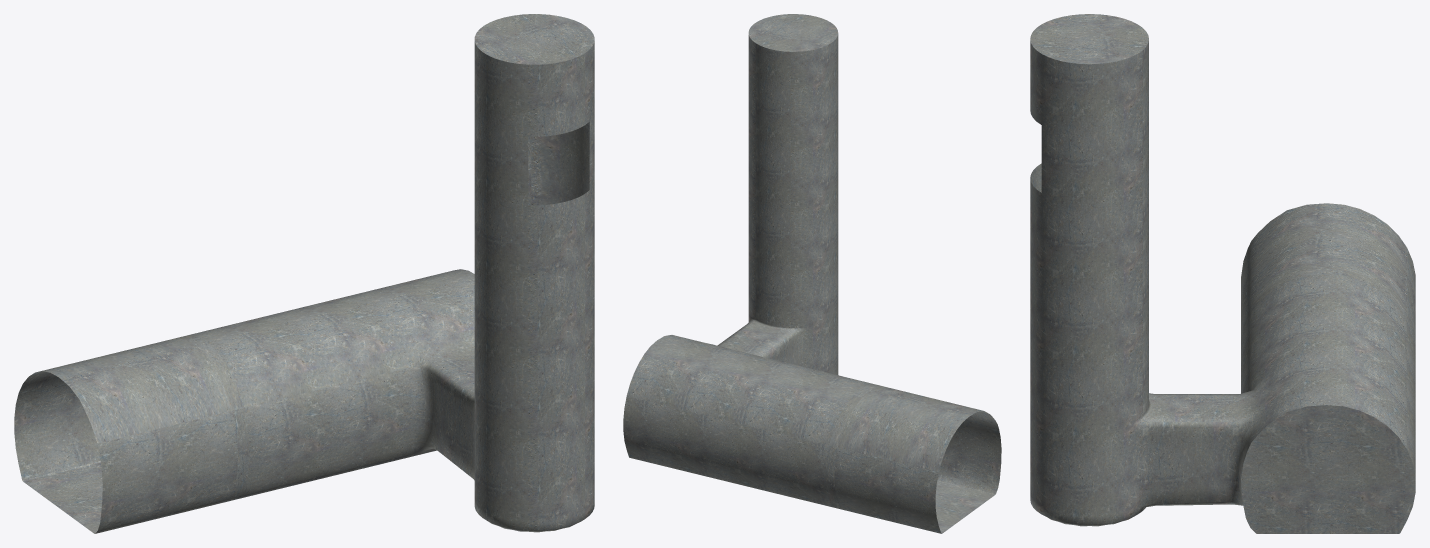
Rendered from sewer_wall.fbx.
The picture shows the model from 3 angles, left to right: view 1: azimuth 30°, elevation 25°; view 2: azimuth 150°, elevation 25°; view 3: azimuth 270°, elevation 25°; orthographic projection. The views are drawn at different scales.
Visible parts, largest first — view 1: pCylinder2; view 2: pCylinder2; view 3: pCylinder2.
Boxes of the visible parts, box(x1,y1,x2,y2) form: pCylinder2: box(14, 14, 594, 533); pCylinder2: box(623, 14, 1001, 533); pCylinder2: box(1030, 14, 1415, 533).
Size of the model in its own units: 1330 by 1432 by 1074.
1 material, 1 textured.
